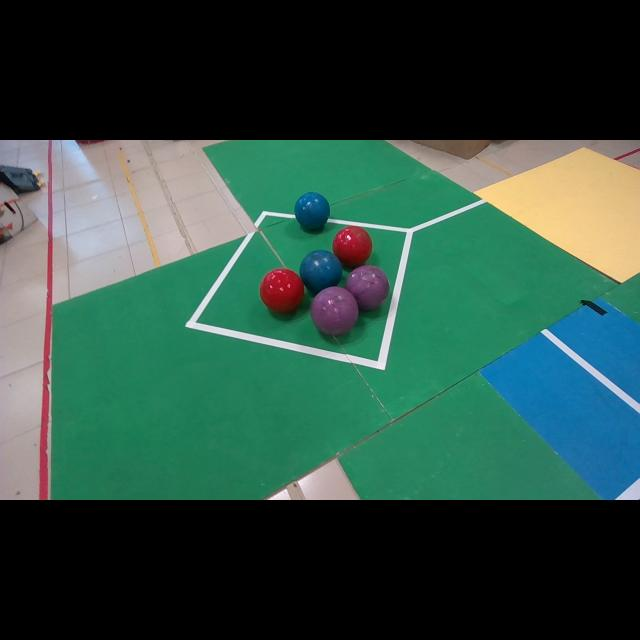B: (300, 250, 342, 293), (295, 192, 330, 229)
P: (310, 286, 359, 335), (345, 265, 390, 310)
R: (259, 268, 304, 313), (332, 226, 372, 268)
